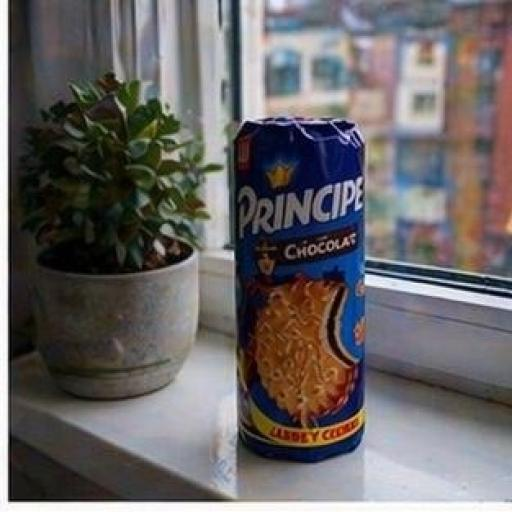prince: (151, 74, 402, 480)
